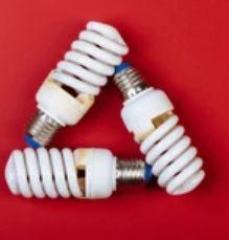lightbulb: (3, 20, 205, 200), (25, 20, 129, 146), (112, 61, 205, 195)
